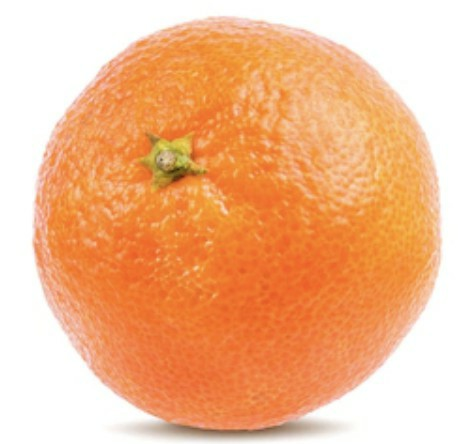fresh_orange: (37, 18, 438, 428)
